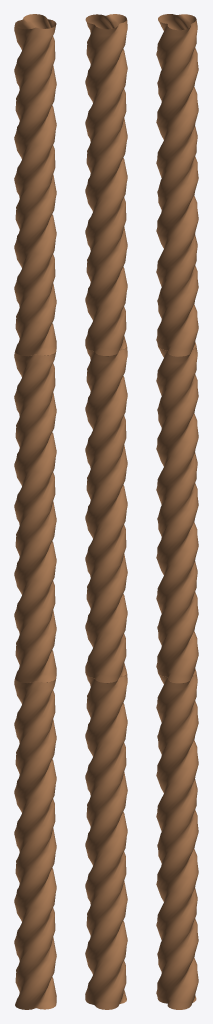
Rendered from Corda 3.fbx.
The picture shows the model from 3 angles, left to right: view 1: azimuth 30°, elevation 25°; view 2: azimuth 210°, elevation 25°; view 3: azimuth 330°, elevation 25°; orthographic projection.
Parts seen in each view (by area): view 1: Rope 0 .005; view 2: Rope 0 .005; view 3: Rope 0 .005.
Part boxes in pixels (x1,y1,x2,y2): Rope 0 .005: (14, 14, 56, 1009); Rope 0 .005: (85, 14, 127, 1009); Rope 0 .005: (156, 14, 198, 1009).
Bounding box in the file's own units: 10.97 × 280 × 10.86.
